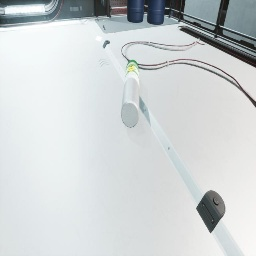0: (121, 60, 139, 128)
SafetySwitchPanel ,: (198, 23, 202, 26)
